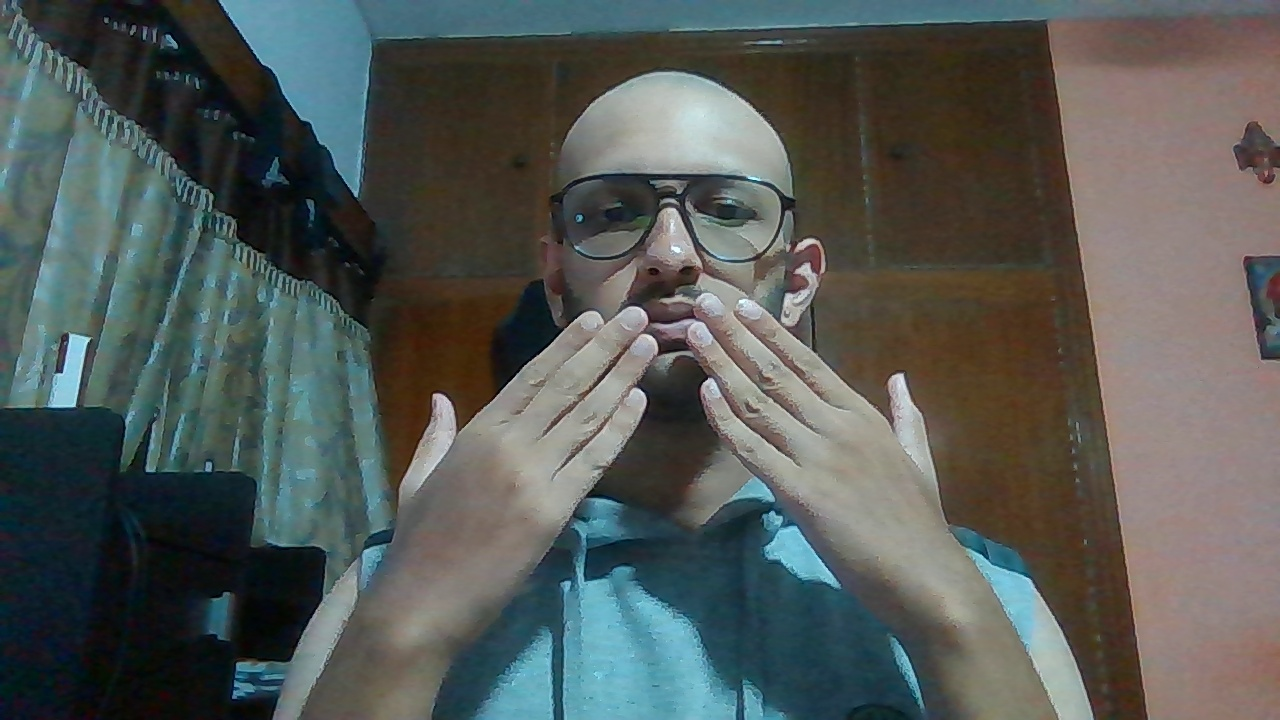Thank You: (380, 287, 977, 608)
